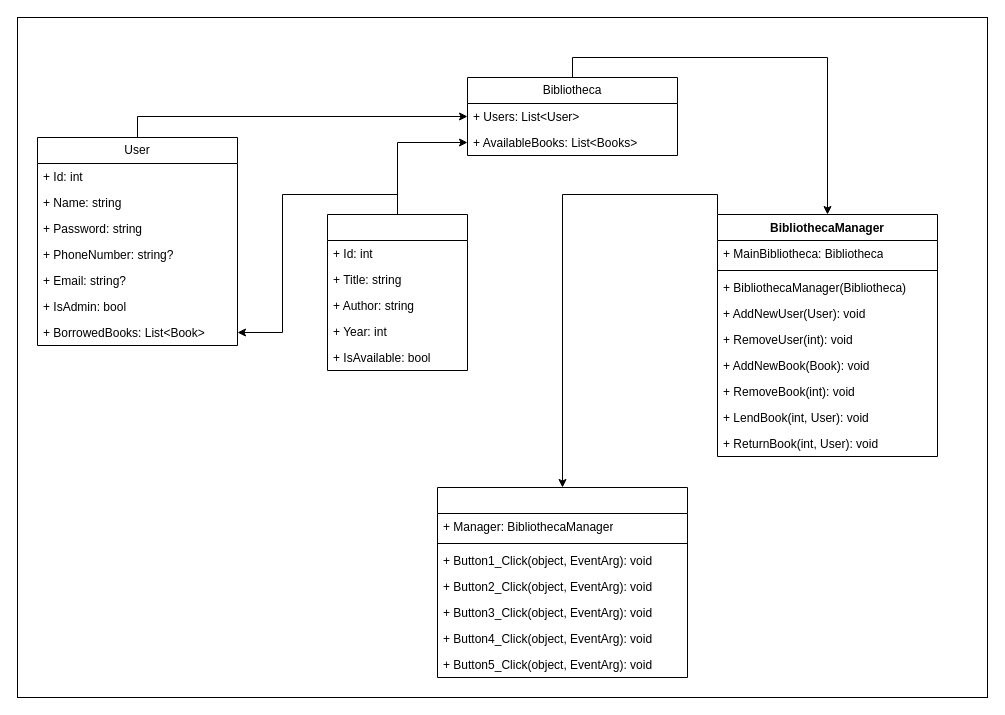
This 1005x715 diagram has some shape labels left out. The shapes that lost their labels are listed below. From the top down, each one's box as (x1, y1, x2, y2) in pixels, then its label:
(326, 214, 468, 370): Book
(436, 486, 688, 678): Form1
